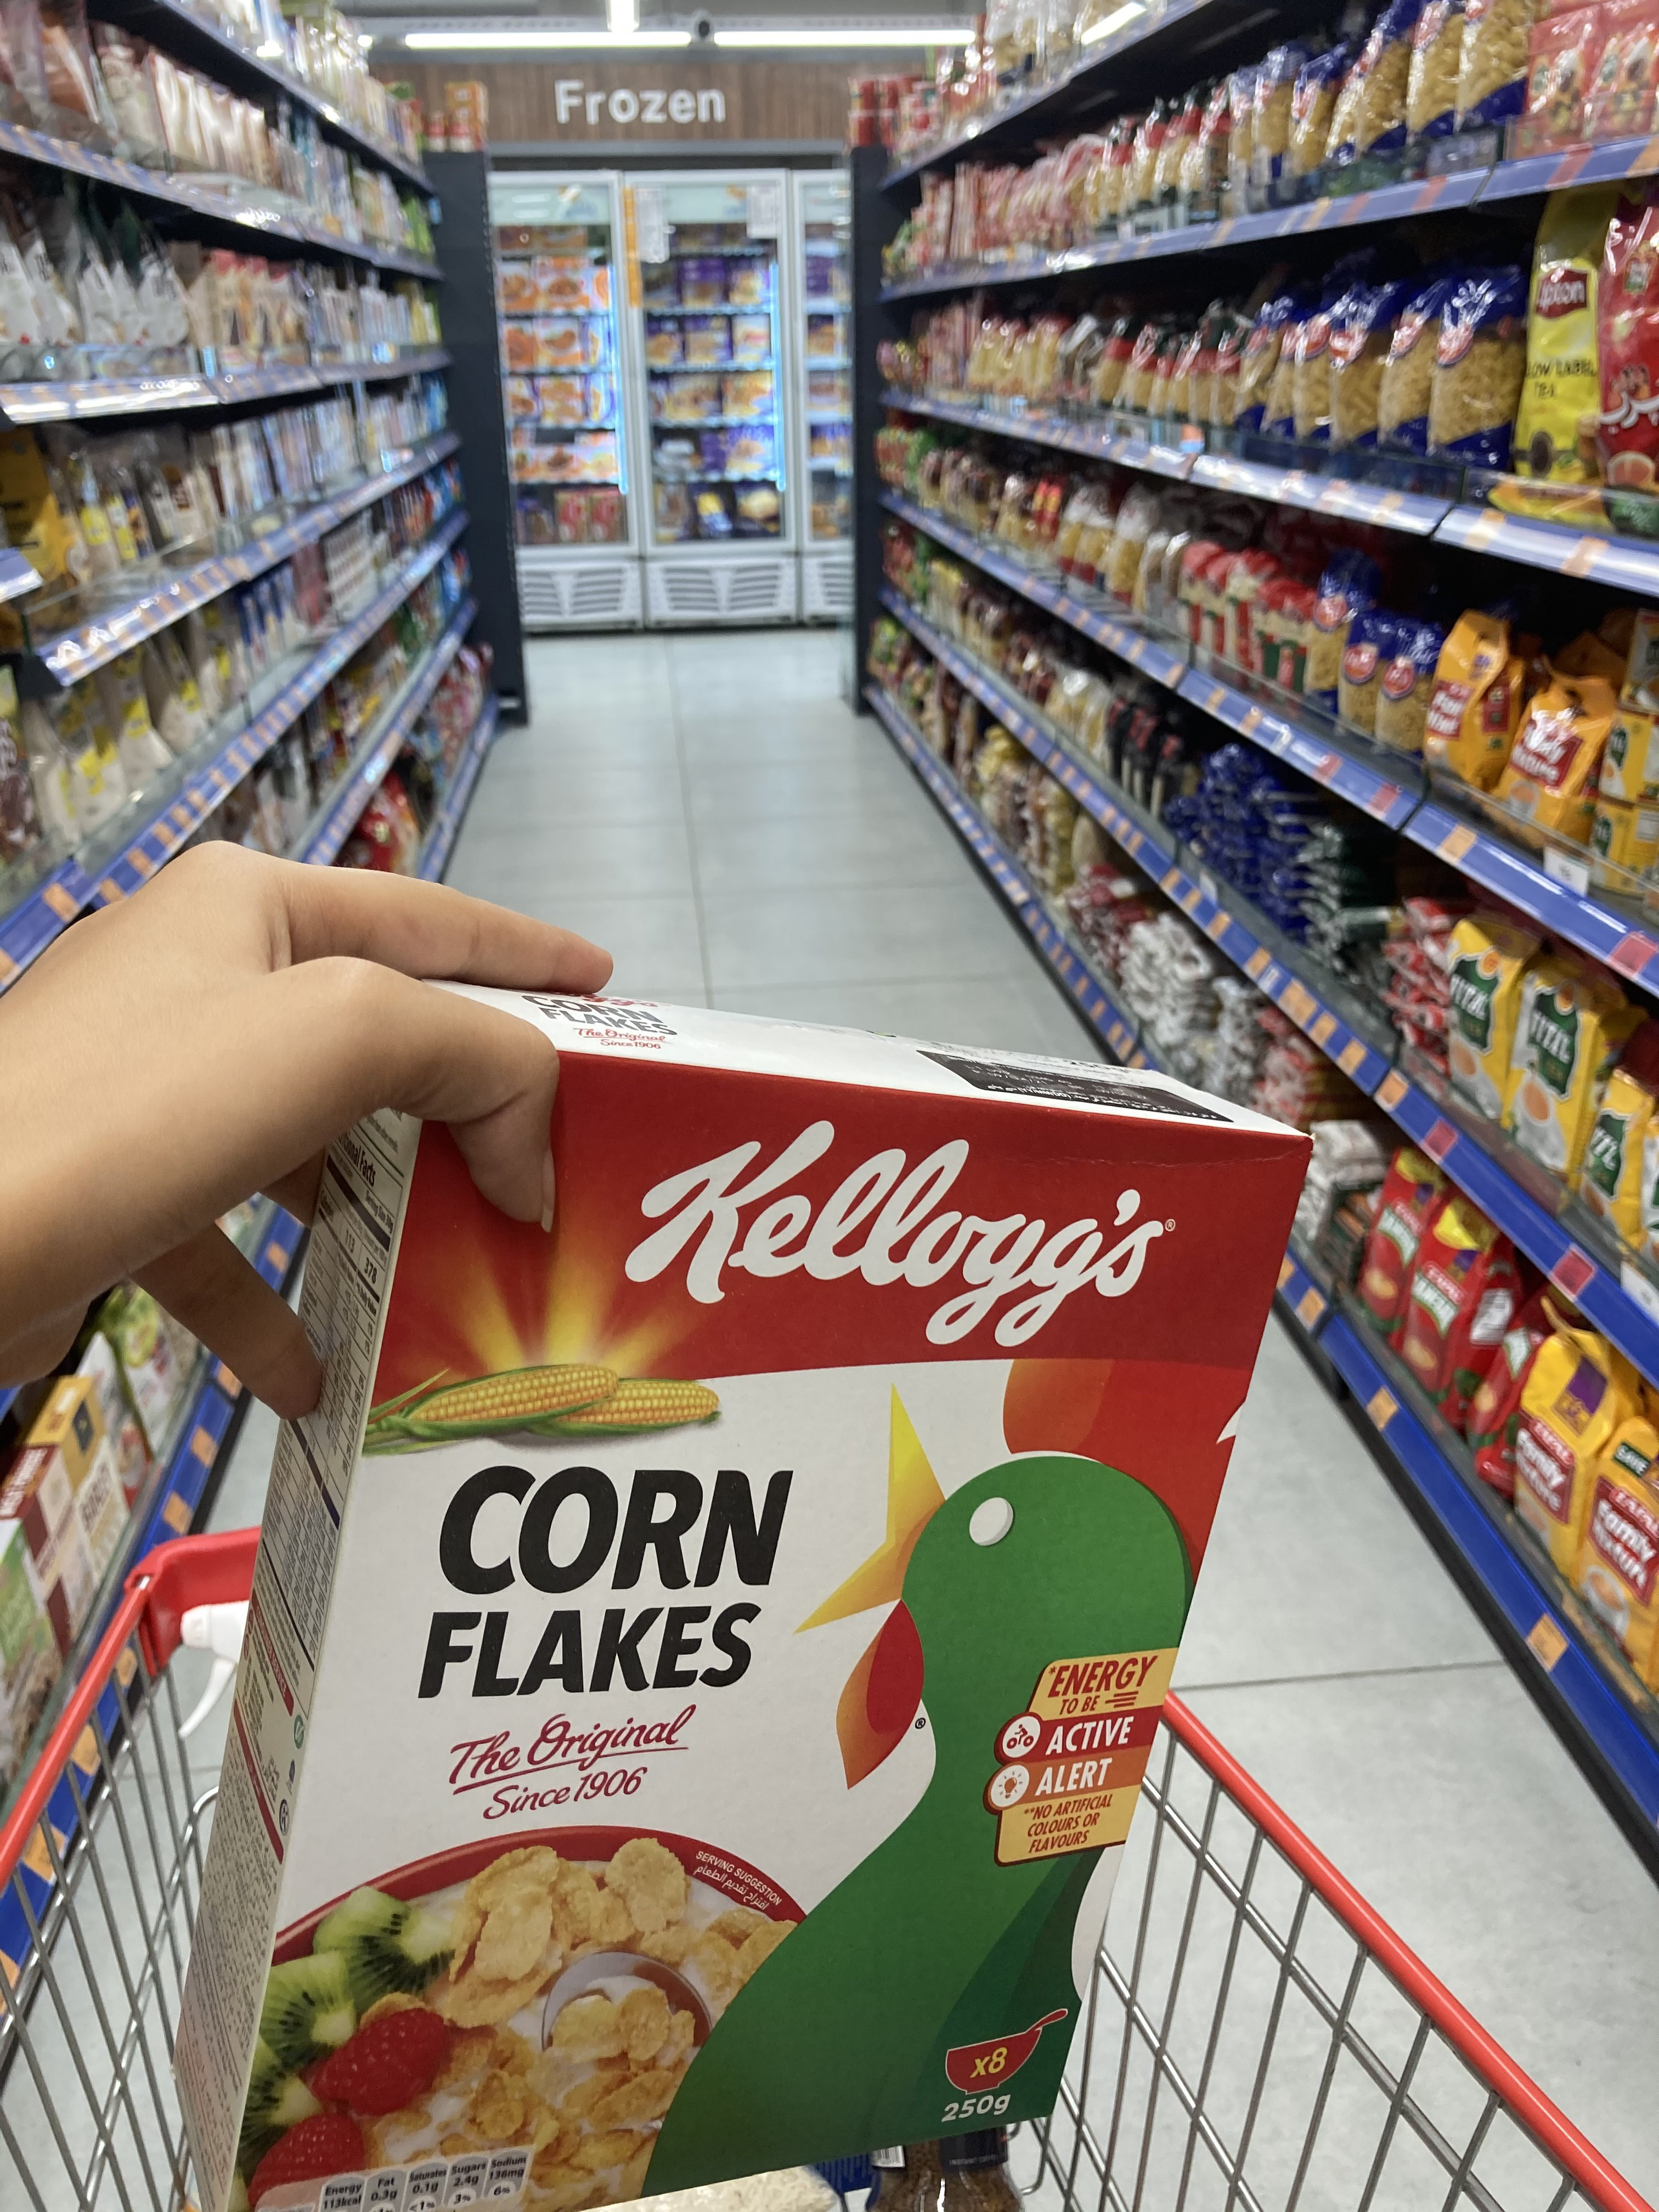Kellogg's Corn Flakes: (162, 961, 1324, 2212)
